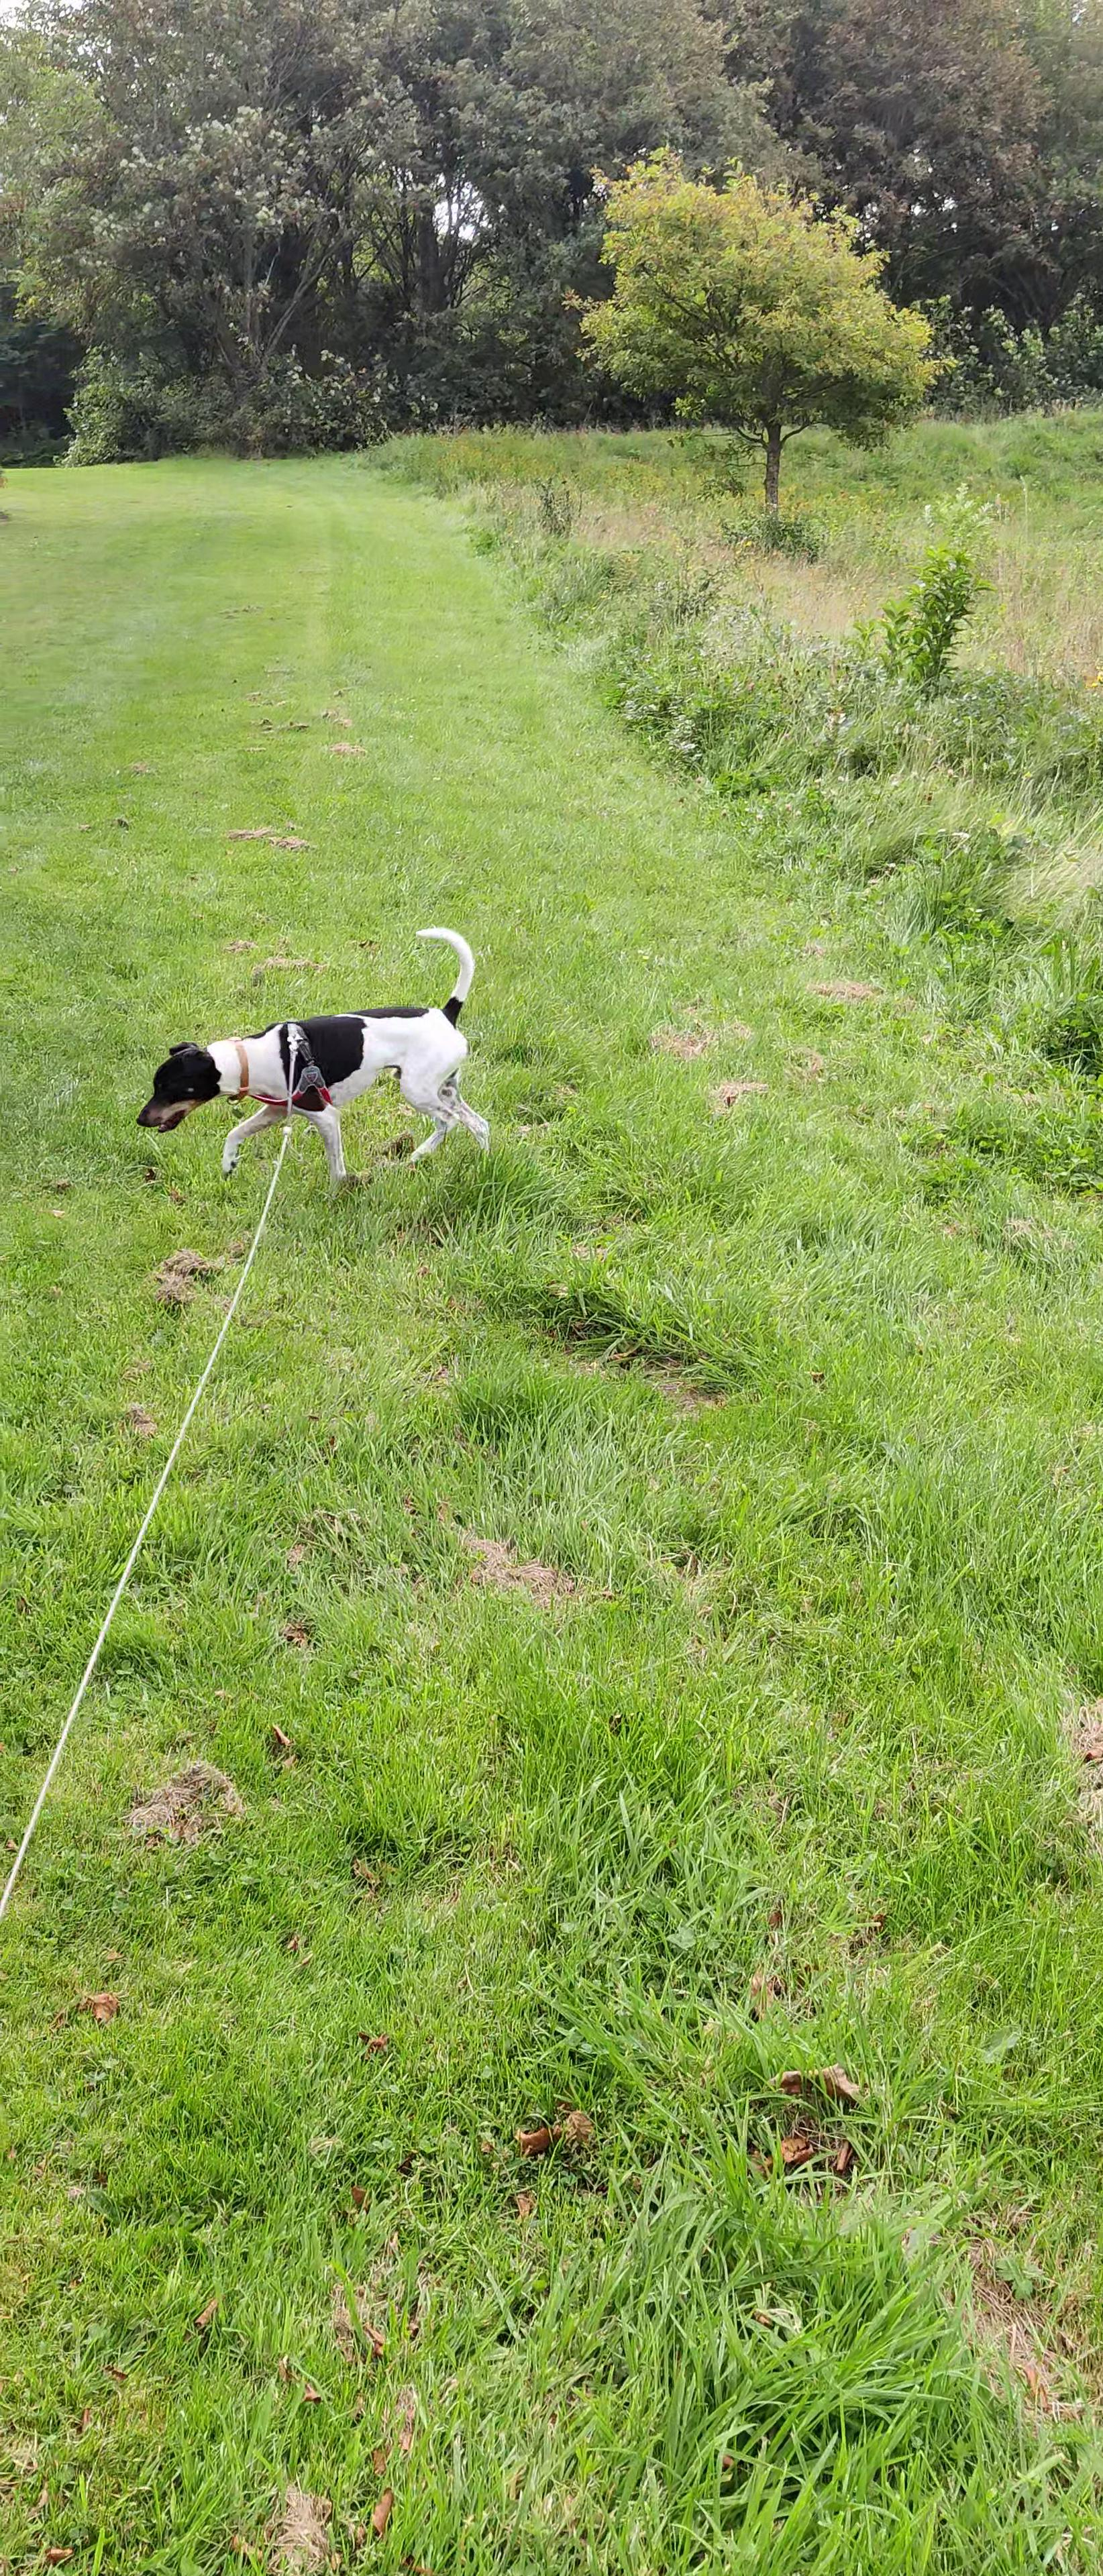Dog: (125, 908, 498, 1184)
